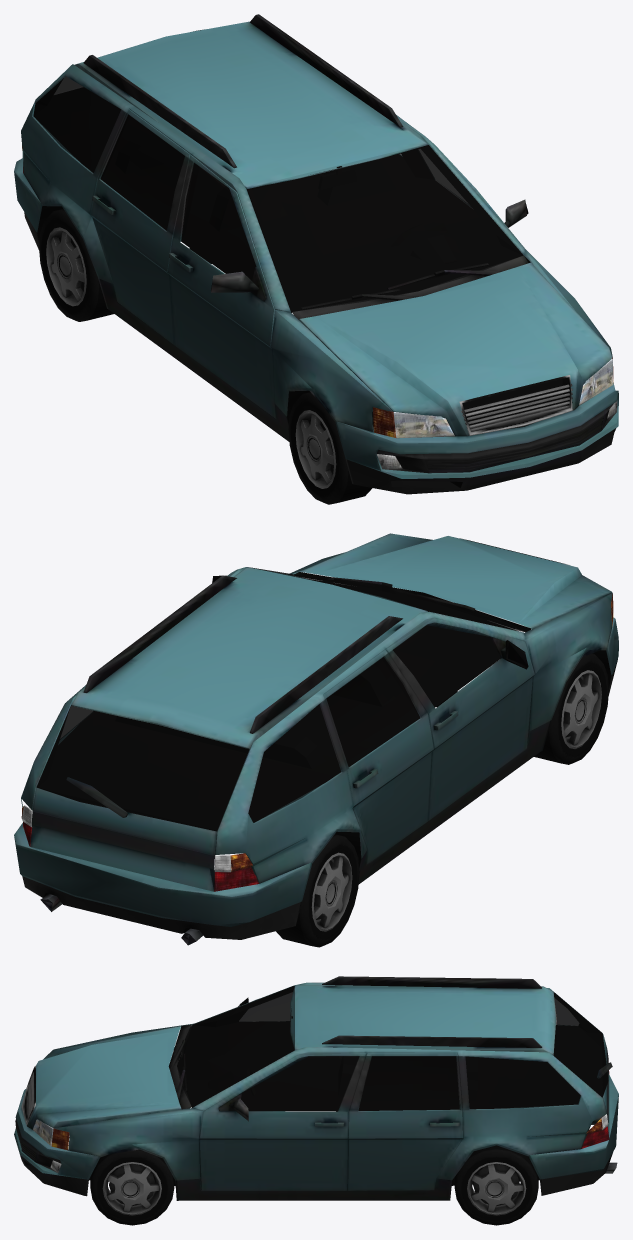
File: stationwagon_lo.glb
The picture shows the model from 3 angles, top to bottom: view 1: azimuth 30°, elevation 25°; view 2: azimuth 150°, elevation 25°; view 3: azimuth 270°, elevation 25°; orthographic projection. The views are drawn at different scales.
Visible parts, largest first — view 1: body, wheel_fr, wheel_rr; view 2: body, wheel_rr, wheel_fr; view 3: body, wheel_rl, wheel_fl.
Part boxes in pixels (<box>): body: <box>14,14,618,494</box>; wheel_fr: <box>288,392,373,504</box>; wheel_rr: <box>39,209,113,321</box>; body: <box>14,533,618,945</box>; wheel_rr: <box>276,834,359,947</box>; wheel_fr: <box>534,653,608,764</box>; body: <box>14,976,618,1200</box>; wheel_rl: <box>454,1145,538,1225</box>; wheel_fl: <box>90,1149,174,1225</box>.
Size of the model in its own units: 2.12 by 1.51 by 4.79.
4 materials, 3 textured.
